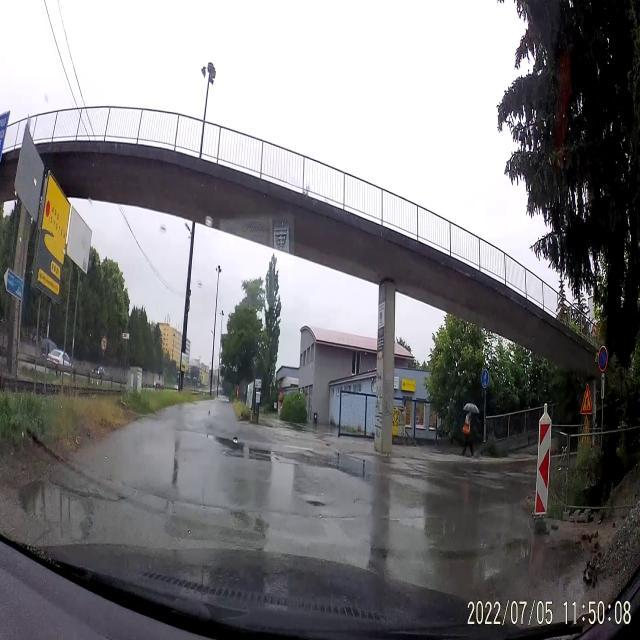Pothole: (22, 482, 92, 536), (396, 514, 446, 542), (302, 492, 330, 516), (354, 494, 367, 506)
